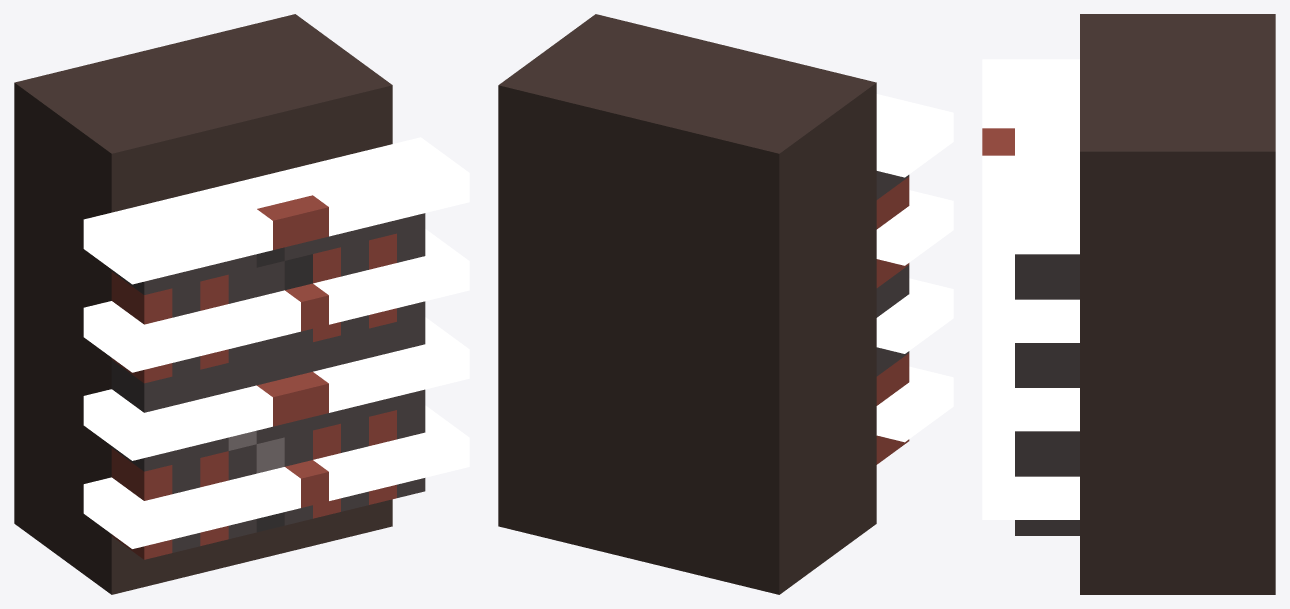
Rendered from knuckles_masterwork.glb.
The picture shows the model from 3 angles, left to right: view 1: azimuth 30°, elevation 25°; view 2: azimuth 150°, elevation 25°; view 3: azimuth 270°, elevation 25°; orthographic projection.
Parts seen in each view (by area): view 1: knuckles_masterwork; view 2: knuckles_masterwork; view 3: knuckles_masterwork.
Boxes of the visible parts, x1,y1,x2,y2 form: knuckles_masterwork: (14,14,469,594); knuckles_masterwork: (498,14,953,594); knuckles_masterwork: (982,14,1275,594).
Bounding box in the file's own units: 0.18 × 0.225 × 0.135.
